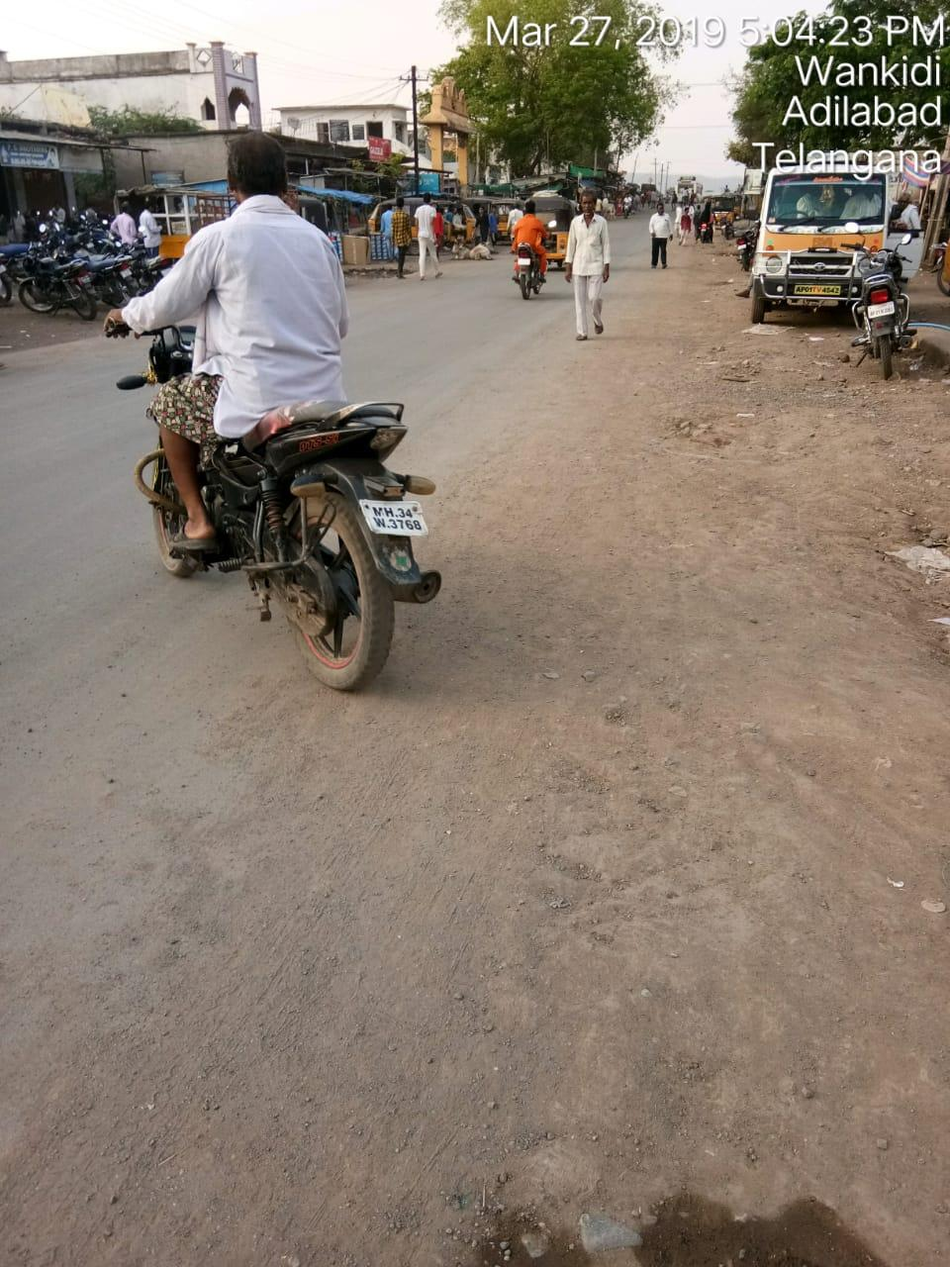plate: (349, 494, 437, 550)
